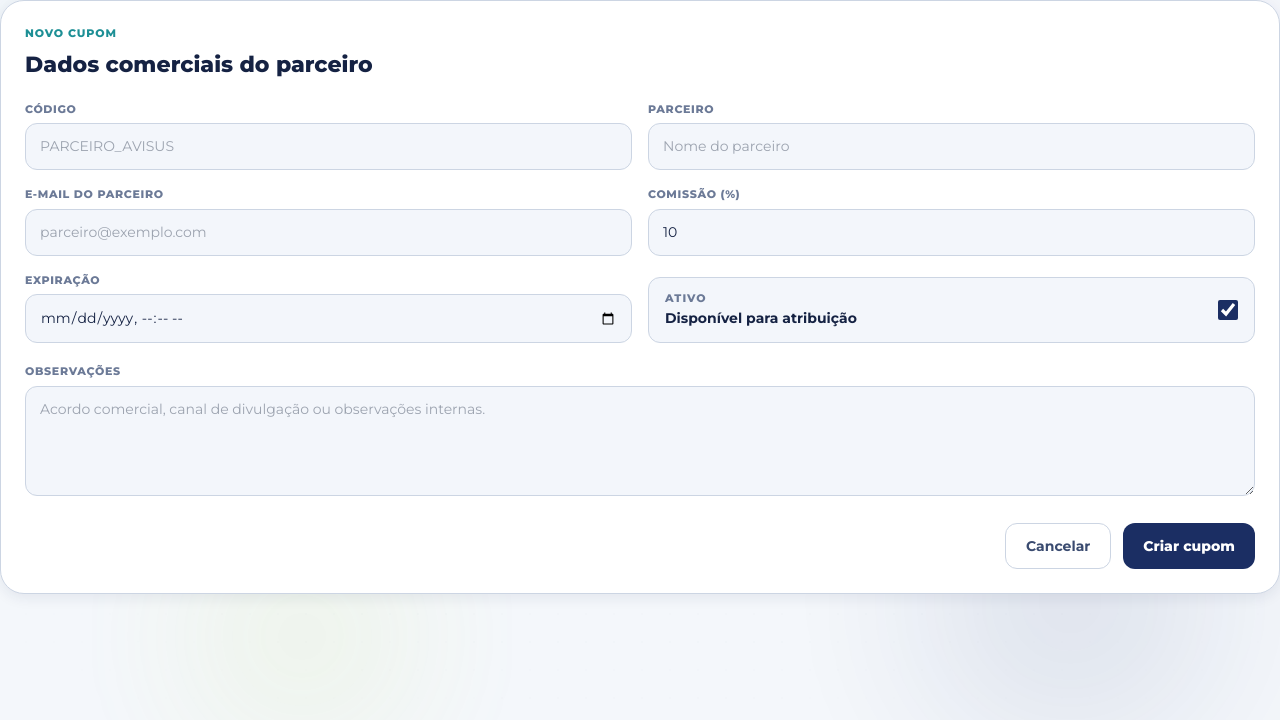
Test: ReferralCouponForm › envia dados válidos para criação e mostra sucesso/redirect
In the field labelled "Código": (328, 146) 25,123 -> 632,170, type "parceiro_avisus"
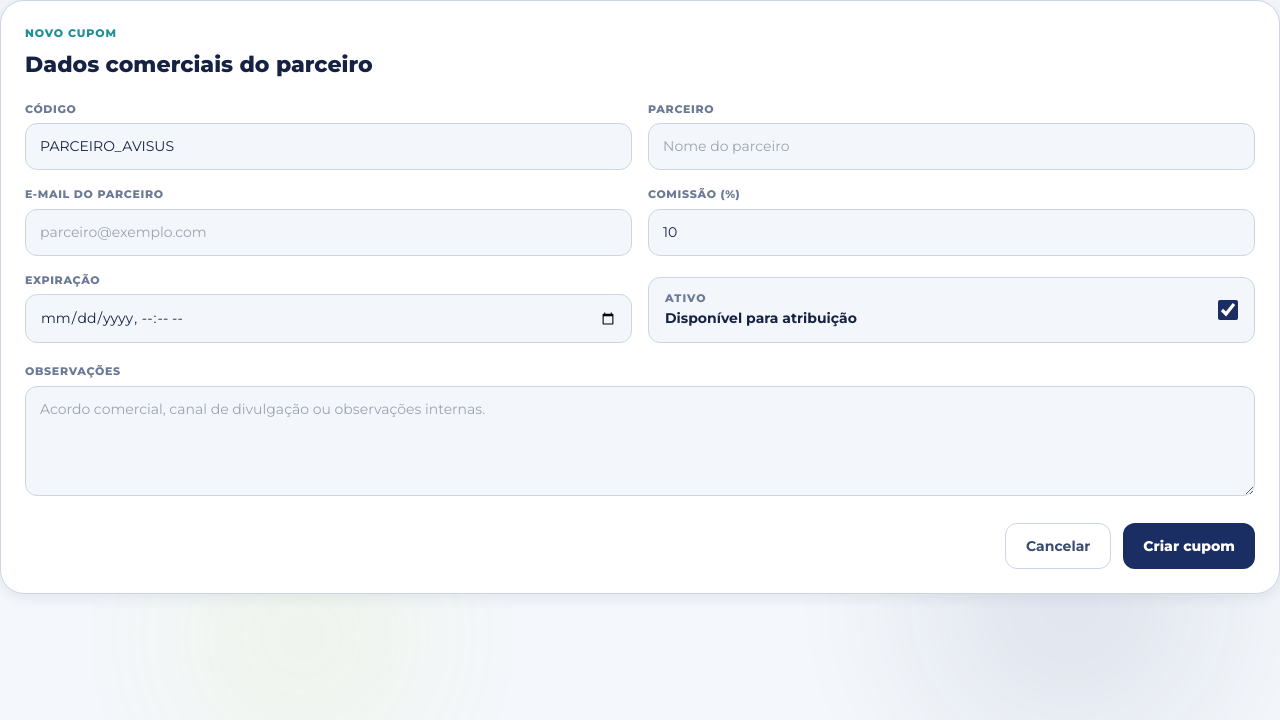
In the field labelled "Parceiro": (952, 146) 648,123 -> 1255,170, type "Parceiro Teste"
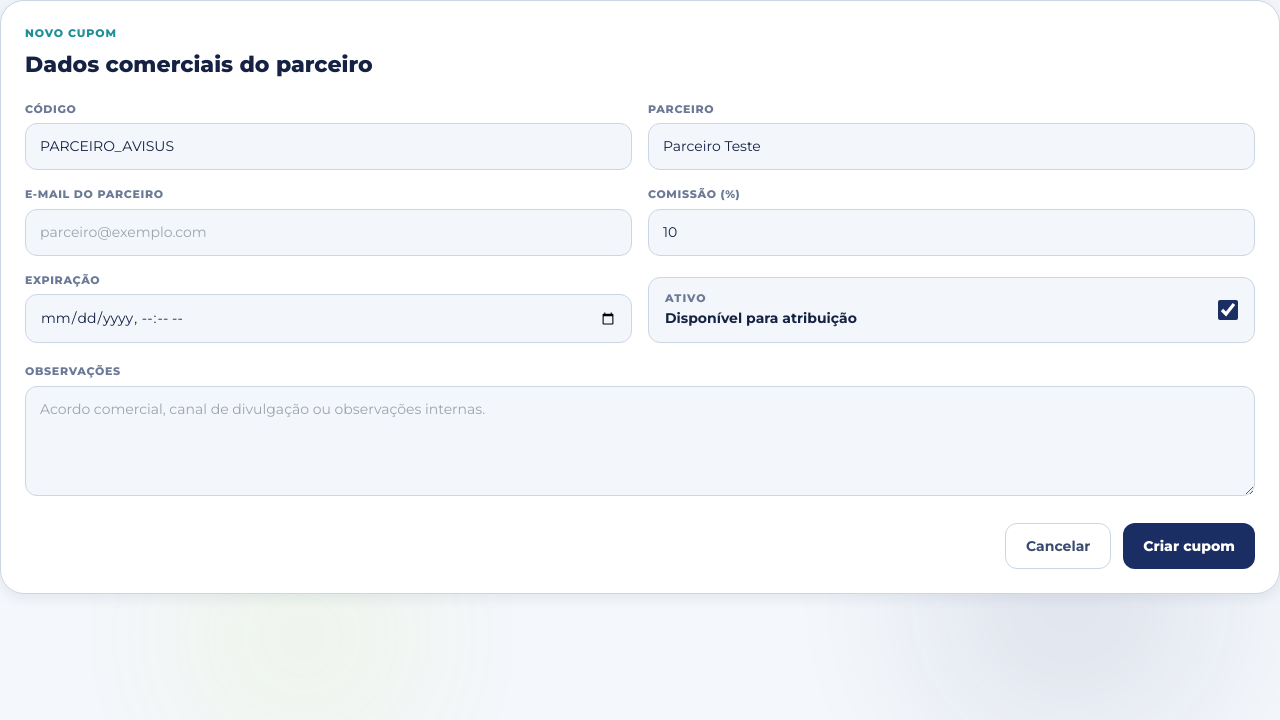
In the field labelled "E-mail do parceiro": (328, 232) 25,208 -> 632,256, type "parceiro@avisus.local"
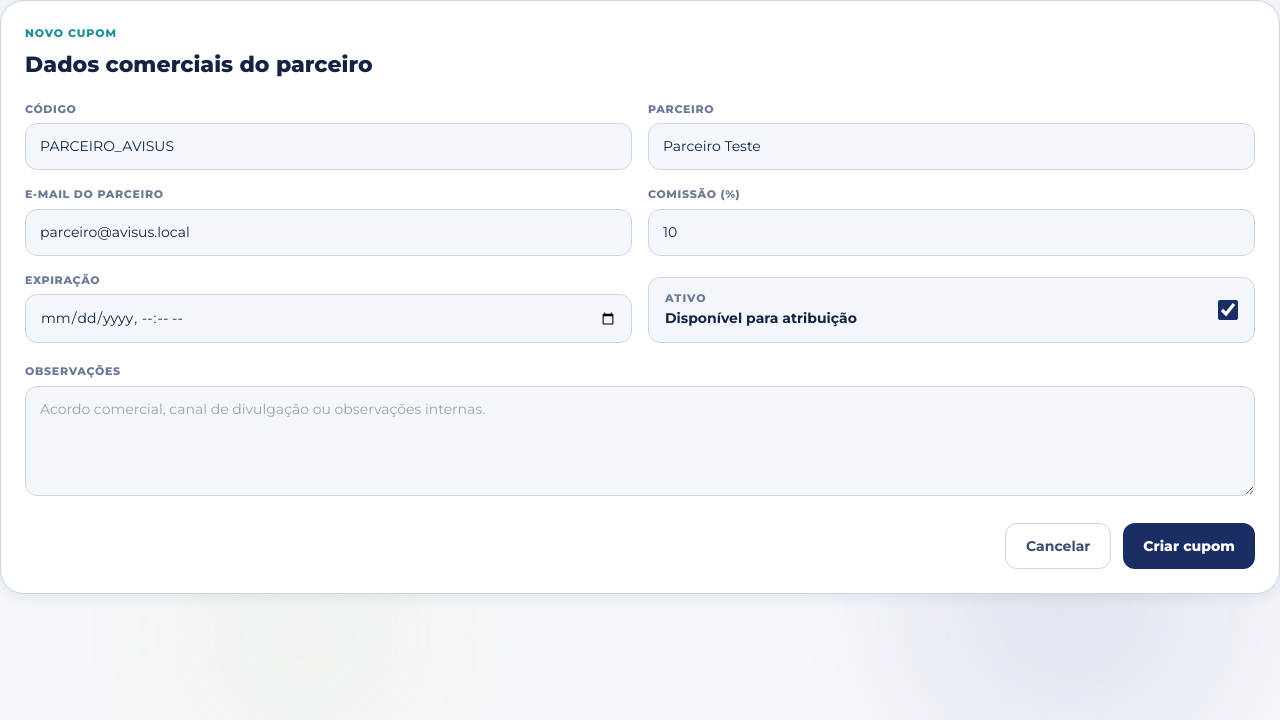
Replace the text in the number field labelled "Comissão (%)" with "15": (952, 232) 648,208 -> 1255,256
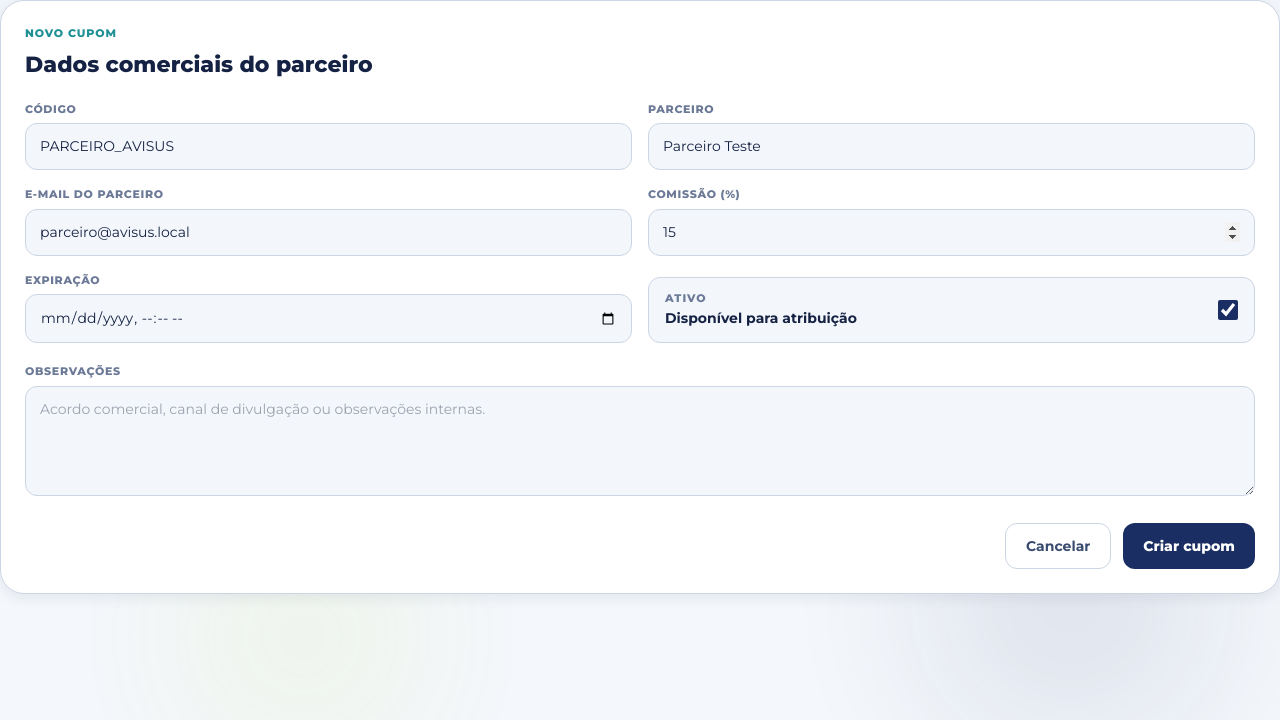
Click the button "Criar cupom": click(1189, 546) 1123,522 -> 1255,568
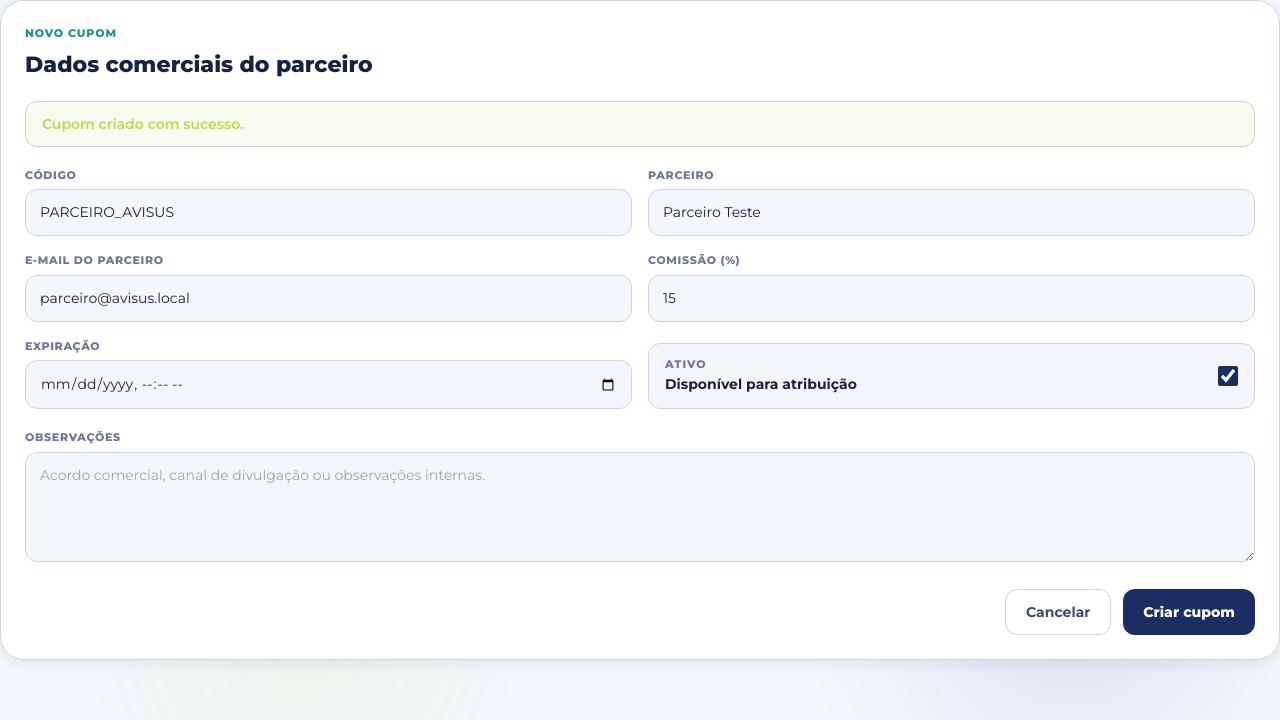
Expected: the message reads "Cupom criado com sucesso.", 42,114 -> 244,132
